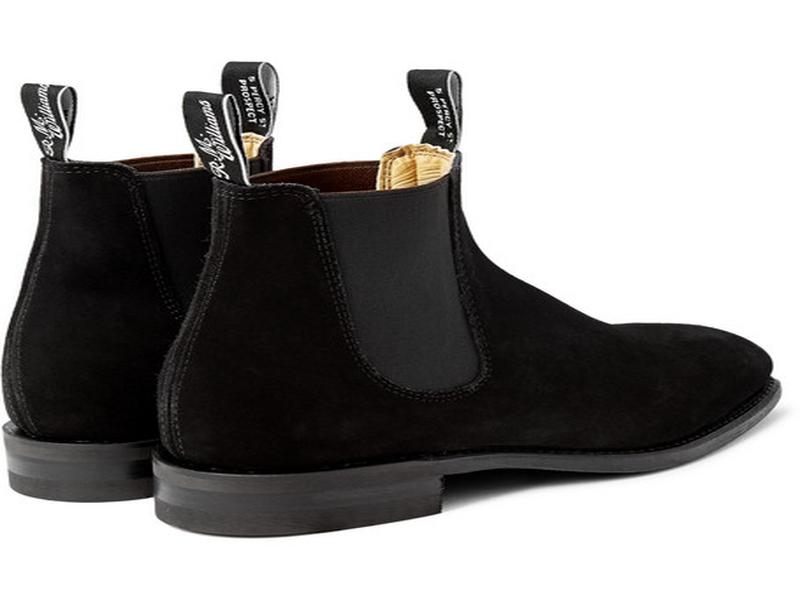shoes_men_chelsea_chelseaboots_suede_none_none_black_none: (148, 58, 794, 544)
